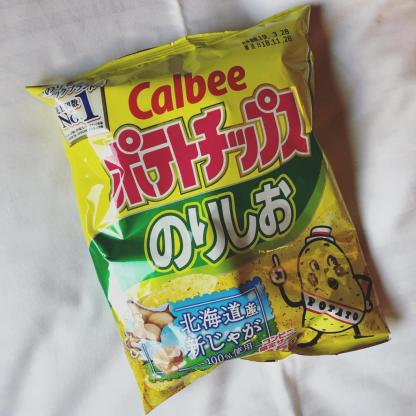potatochip: (24, 4, 393, 416)
